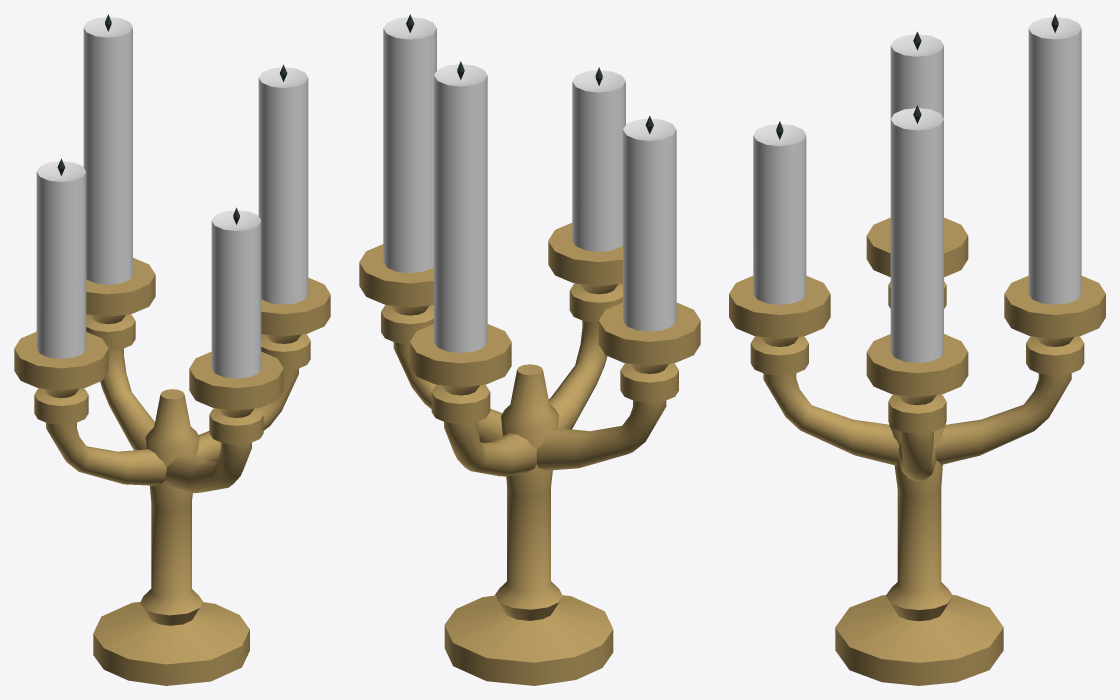
File: candelabra.fbx
The picture shows the model from 3 angles, left to right: view 1: azimuth 30°, elevation 25°; view 2: azimuth 150°, elevation 25°; view 3: azimuth 270°, elevation 25°; orthographic projection. The views are drawn at different scales.
Visible parts, largest first — view 1: candelabra; view 2: candelabra; view 3: candelabra.
Boxes of the visible parts, bbox=[...] form: candelabra: bbox=[14, 14, 330, 685]; candelabra: bbox=[359, 14, 700, 685]; candelabra: bbox=[729, 14, 1105, 685].
Bounding box in the file's own units: 0.5465 × 1.02 × 0.5465.
